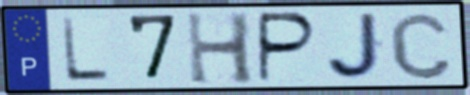7: (125, 13, 179, 84)
C: (386, 10, 455, 82)
H: (183, 10, 258, 87)
J: (324, 11, 386, 82)
L: (59, 16, 113, 83)
P: (256, 10, 320, 85)
